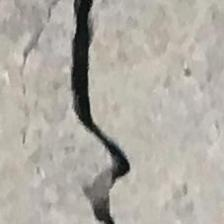Crack: (25, 0, 174, 224)
